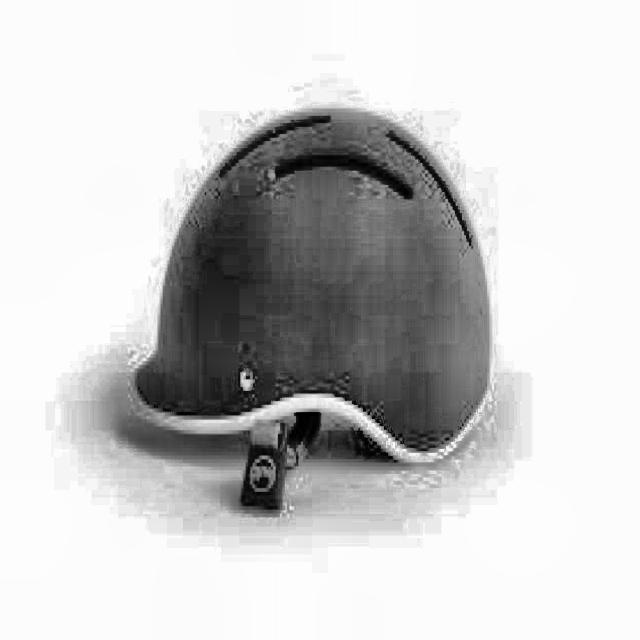Helmet: (122, 102, 501, 523)
